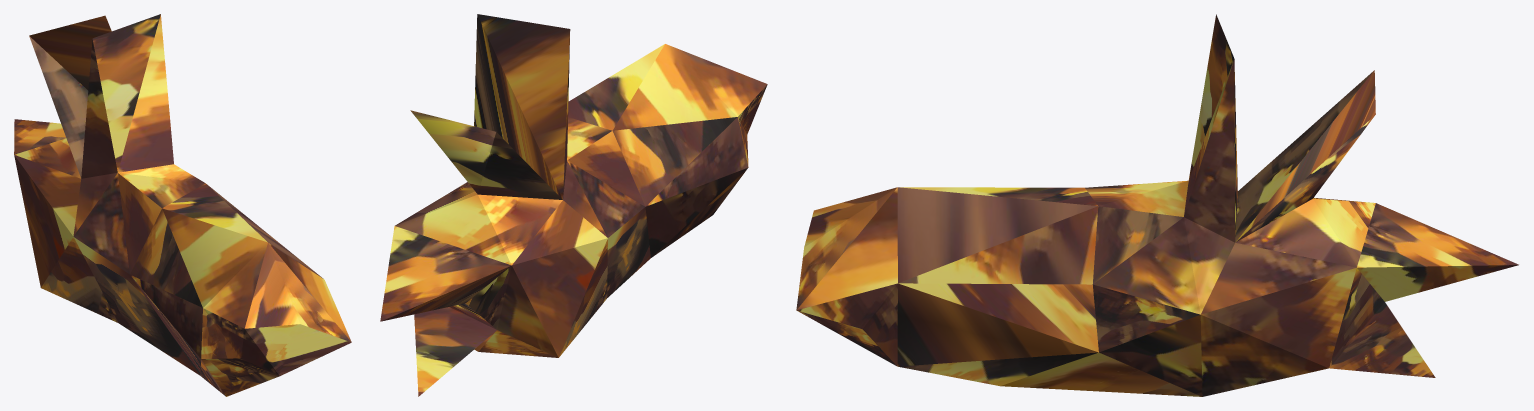
3 views of the same model, side by side, from view 1: azimuth 30°, elevation 25°; view 2: azimuth 150°, elevation 25°; view 3: azimuth 270°, elevation 25° (orthographic). The views are drawn at different scales.
Parts seen in each view (by area): view 1: ai_model; view 2: ai_model; view 3: ai_model.
Boxes of the visible parts, left/top/right/bottom form: ai_model: left=14, top=14, right=351, bottom=396; ai_model: left=380, top=14, right=767, bottom=396; ai_model: left=796, top=14, right=1518, bottom=396.
Size of the model in its own units: 0.2704 by 0.5236 by 1.02.
